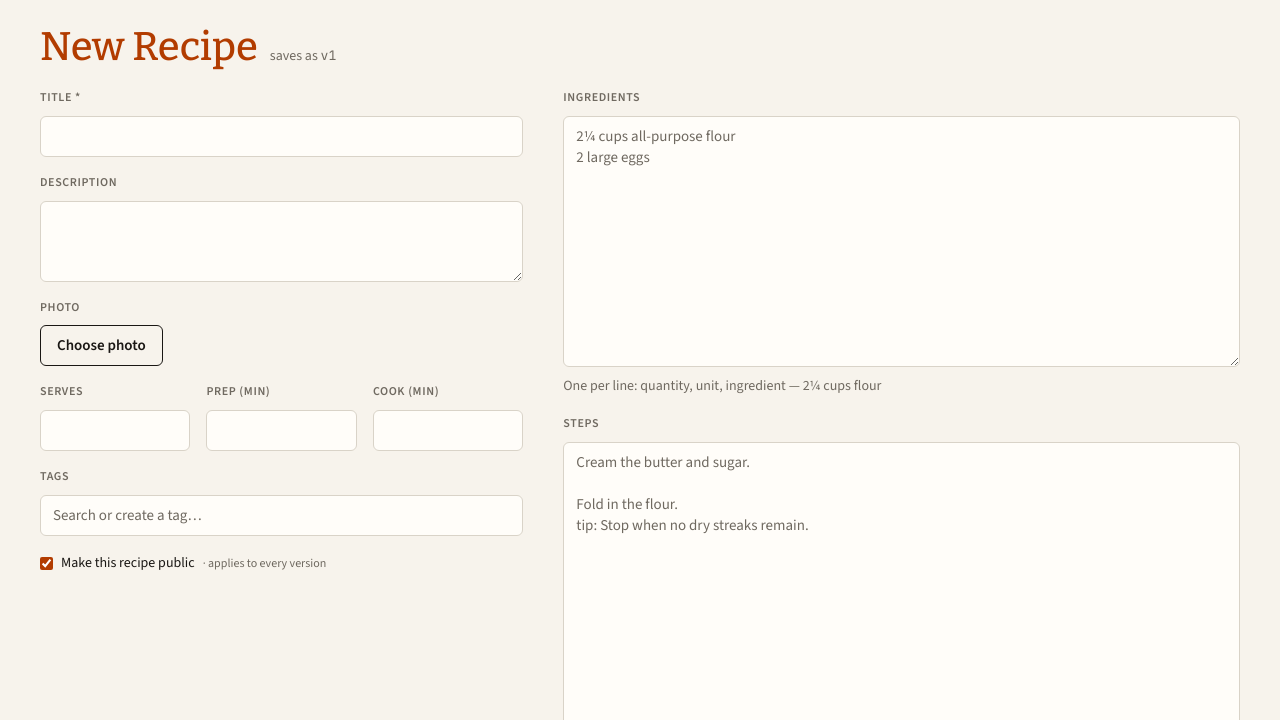
New recipe page editor state › the header line promises v1 only while no field carries an error
Step 1. Type "Brownies" into the text box labelled "Title *" → point(282, 136), box [40,116,523,157]
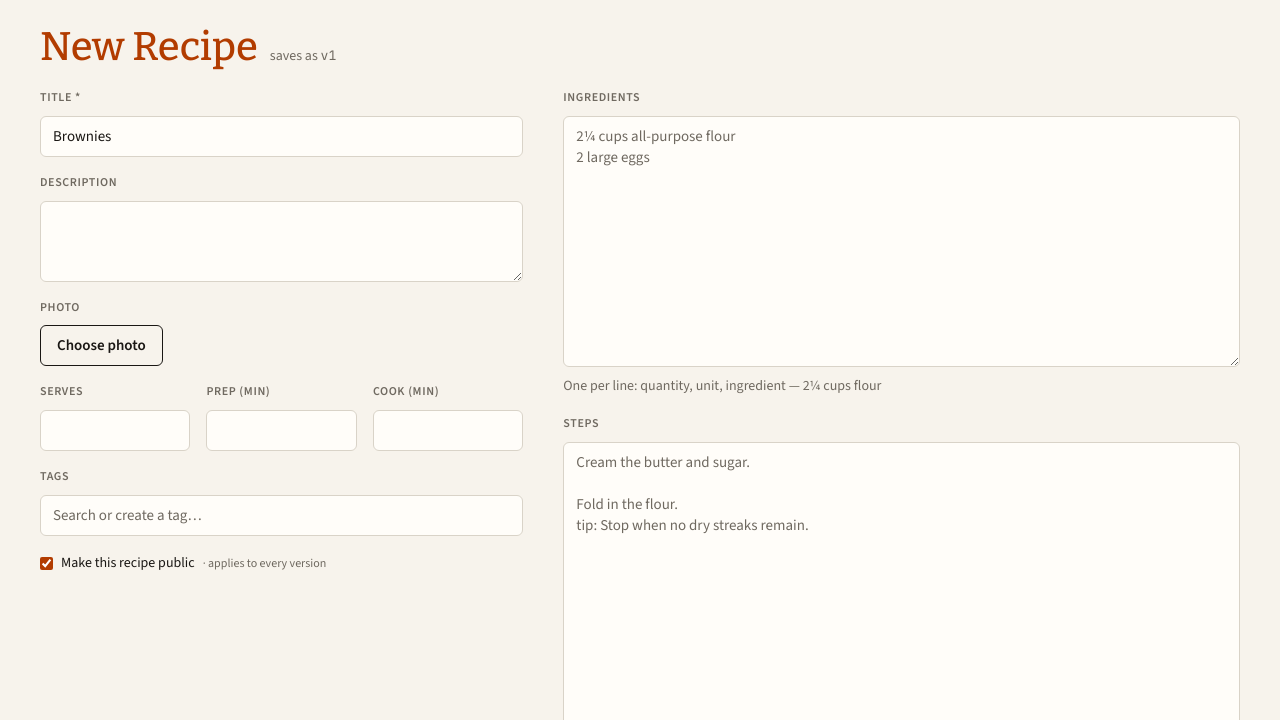
Step 2. Clear the text box labelled "Title *" → point(282, 136), box [40,116,523,157]
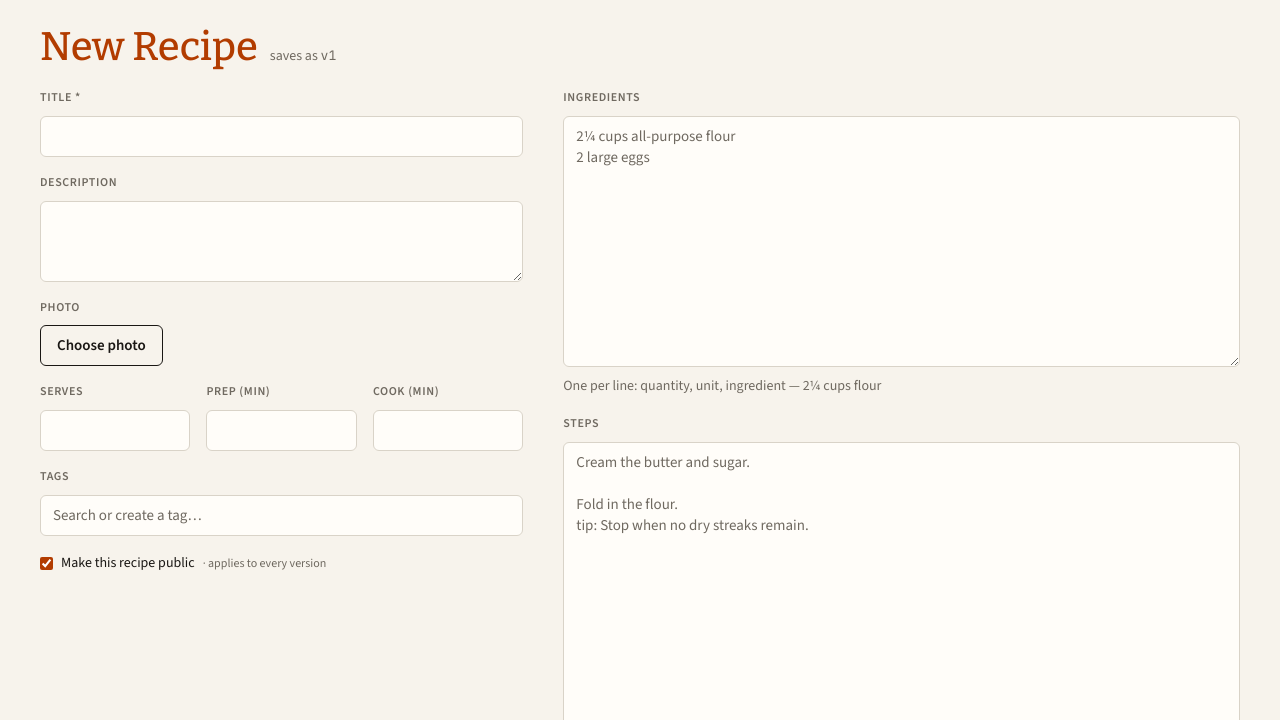
Step 3. Leave the text box labelled "Title *", box [40,116,523,157]
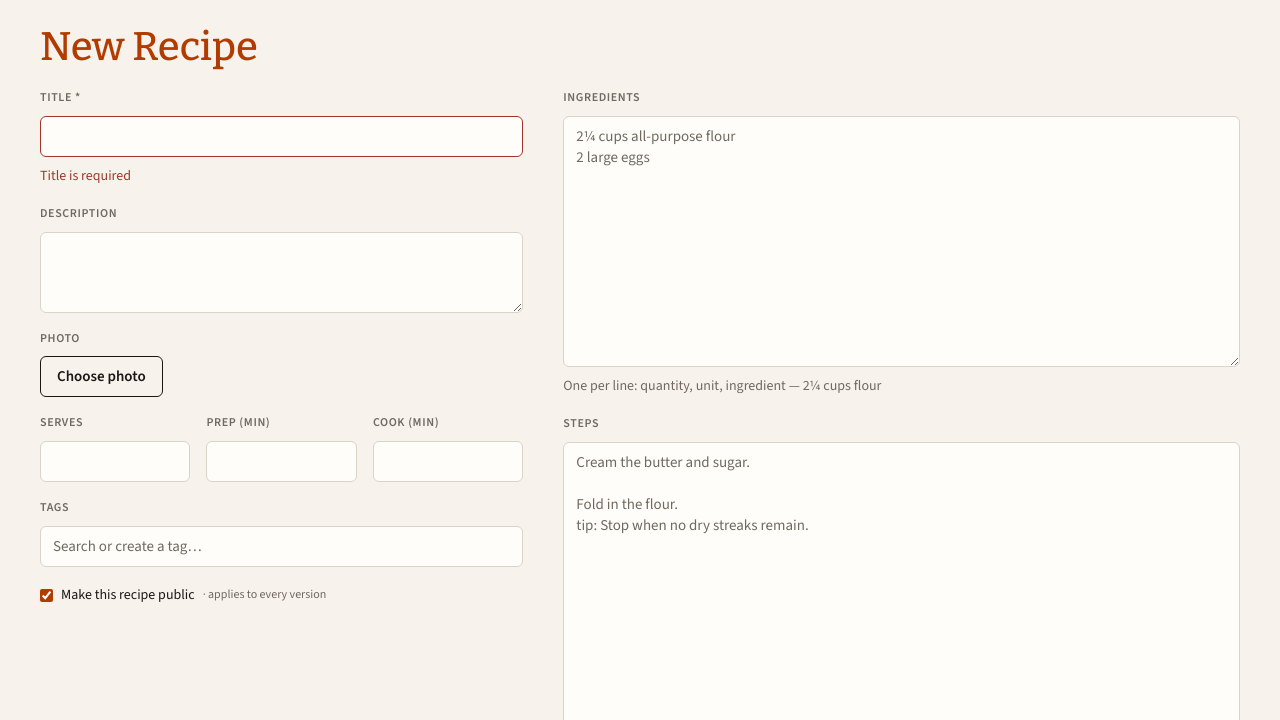
Step 4. Type "Brownies" into the text box labelled "Title *" → point(282, 136), box [40,116,523,157]
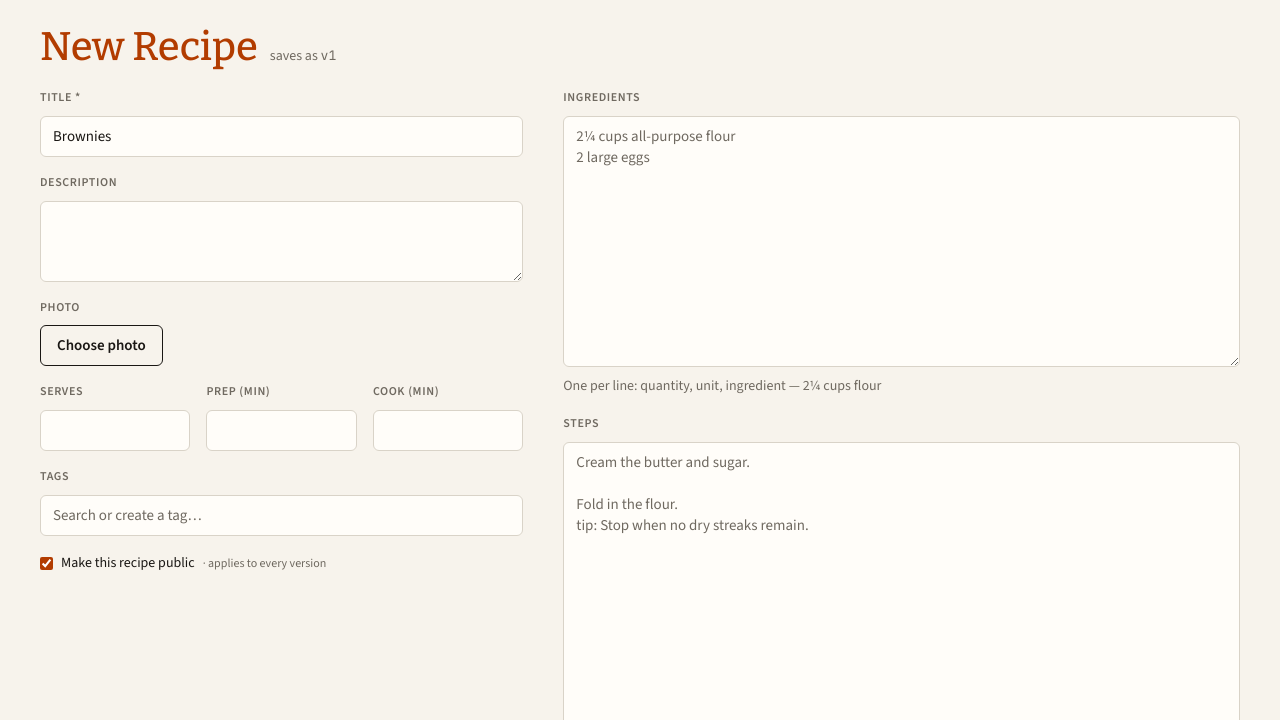
expect the element showing "saves as v1" is shown: met, box [270,45,336,68]
